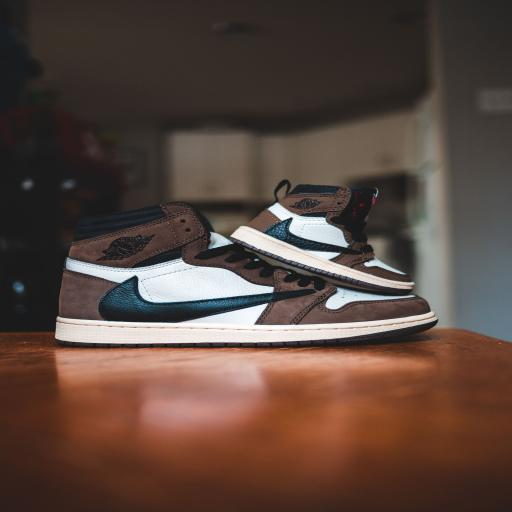shoe: (56, 203, 436, 346), (231, 181, 414, 294)
